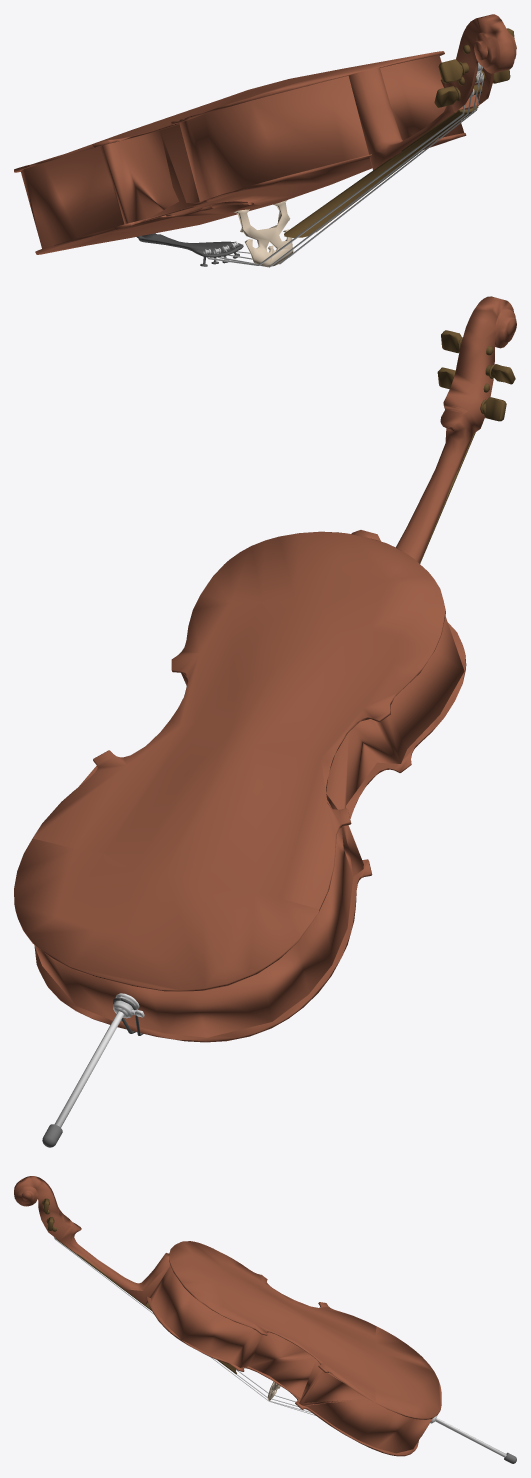
The model's file is Poo.fbx.
3 views of the same model, one above another, from view 1: azimuth 30°, elevation 25°; view 2: azimuth 150°, elevation 25°; view 3: azimuth 270°, elevation 25° (orthographic). The views are drawn at different scales.
Visible parts, largest first — view 1: sides, neck, front, back, fingerboard, Body47, Body55, Body44, Body42, Body41, peg, peg (1) (+1 smaller); view 2: back, sides, neck, front, Body62; view 3: back, sides, neck, front, Body62.
Part boxes in pixels (x1=…): sides: x1=20, y1=55, x2=464, y2=248; neck: x1=348, y1=14, x2=516, y2=170; front: x1=35, y1=133, x2=466, y2=254; back: x1=14, y1=51, x2=444, y2=172; fingerboard: x1=284, y1=105, x2=478, y2=237; Body47: x1=234, y1=200, x2=293, y2=267; Body55: x1=137, y1=233, x2=243, y2=266; Body44: x1=203, y1=88, x2=474, y2=265; Body42: x1=213, y1=62, x2=482, y2=267; Body41: x1=222, y1=66, x2=482, y2=264; peg: x1=438, y1=59, x2=483, y2=83; peg (1): x1=434, y1=84, x2=482, y2=107; back: x1=14, y1=531, x2=445, y2=991; sides: x1=34, y1=616, x2=464, y2=1037; neck: x1=351, y1=296, x2=516, y2=563; front: x1=34, y1=623, x2=466, y2=1042; Body62: x1=54, y1=993, x2=139, y2=1127; back: x1=169, y1=1241, x2=441, y2=1419; sides: x1=151, y1=1265, x2=432, y2=1453; neck: x1=14, y1=1176, x2=170, y2=1304; front: x1=146, y1=1296, x2=418, y2=1456; Body62: x1=430, y1=1416, x2=506, y2=1457.
Size of the model in its own units: 46.41 by 80.43 by 128.
